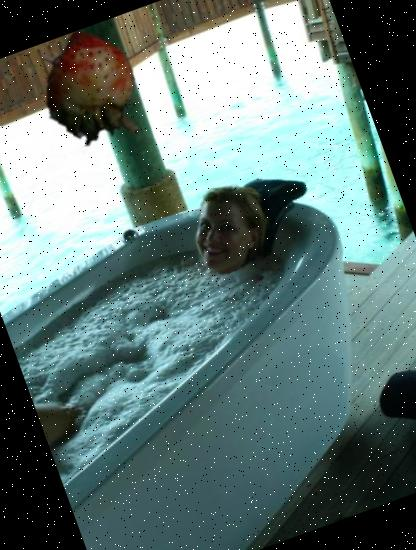Strawberry: (16, 16, 166, 166)
